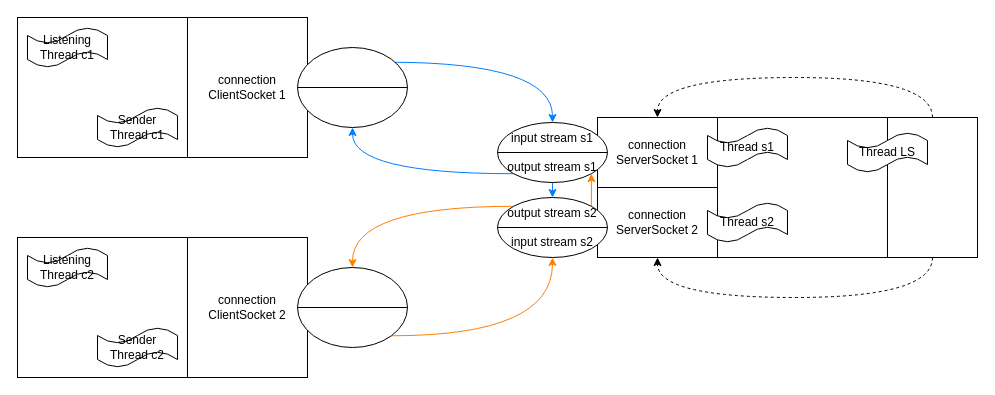
This 995x395 diagram has some shape labels left out. Here are the shapes that lost their labels. From the top down, the box of each, then its label:
(16, 16, 188, 158): Client 1
(296, 46, 408, 128): output stream c1 input stream c1
(716, 116, 888, 258): Server
(886, 116, 978, 258): listenning ServerSocket
(16, 236, 188, 378): Client 2
(296, 266, 408, 348): input stream c2 output stream c2
